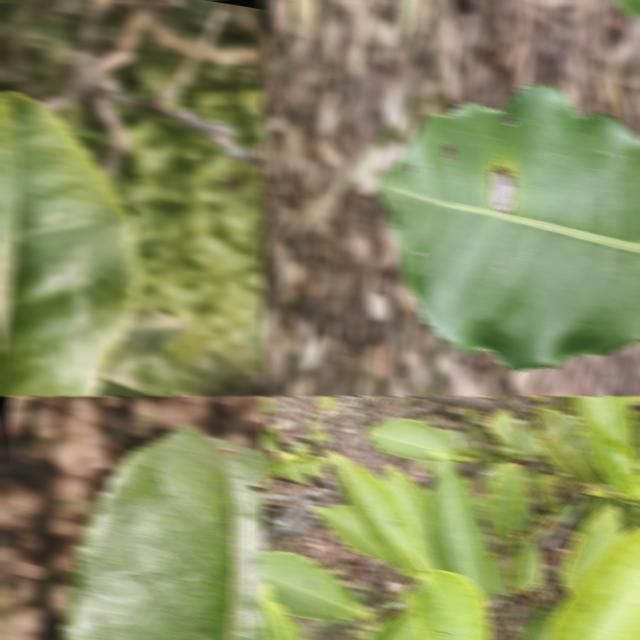Leaf: (375, 85, 640, 370), (61, 427, 264, 640), (0, 92, 137, 396), (327, 452, 437, 576), (545, 526, 640, 640), (424, 452, 492, 602), (260, 551, 369, 620), (381, 465, 437, 570), (529, 409, 604, 484), (560, 505, 623, 594), (412, 570, 490, 640), (309, 504, 389, 560), (572, 396, 634, 466), (364, 418, 457, 460), (483, 461, 525, 544), (596, 425, 640, 499), (508, 537, 543, 594), (484, 408, 523, 450), (260, 604, 286, 640), (487, 558, 512, 595), (519, 616, 555, 640), (277, 462, 310, 485), (537, 472, 556, 510), (298, 455, 329, 478), (260, 431, 282, 450), (318, 396, 338, 413), (260, 396, 275, 416)
